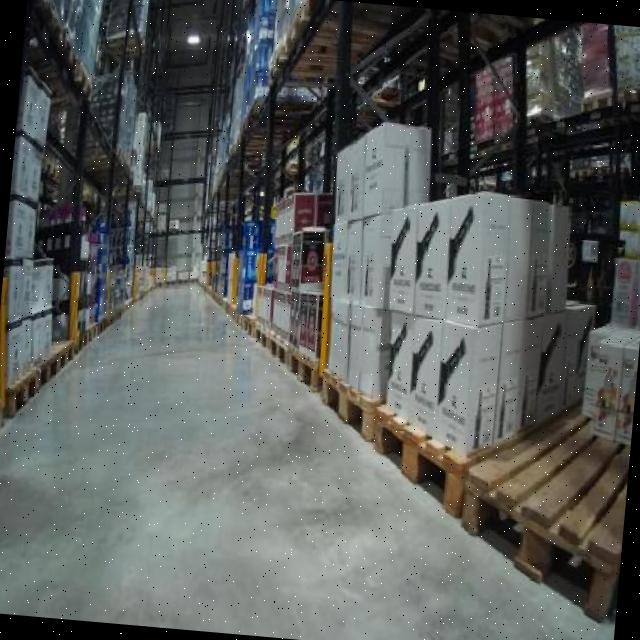pallet: (454, 390, 634, 628), (368, 379, 483, 520), (311, 350, 380, 444), (0, 348, 47, 427), (36, 325, 84, 385), (292, 330, 328, 406), (250, 317, 296, 367)
